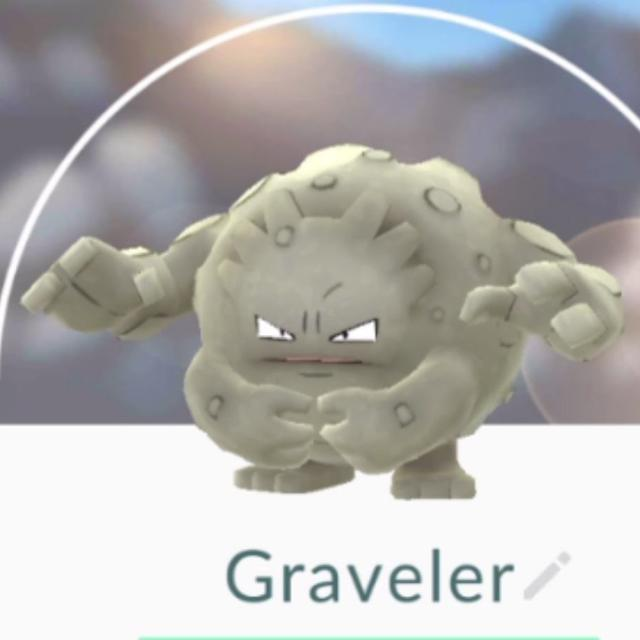Graveler: (17, 135, 640, 525)
